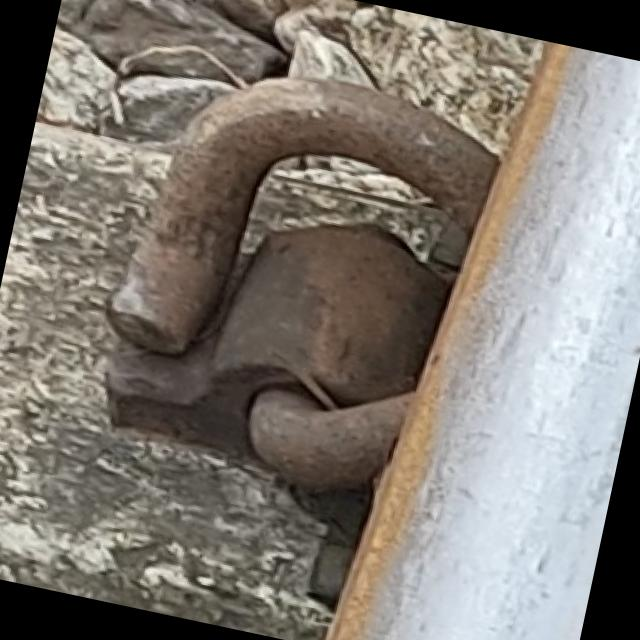track_bolt: (70, 32, 460, 506)
